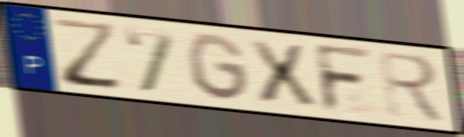7: (124, 23, 177, 95)
F: (312, 41, 376, 116)
G: (185, 31, 252, 104)
R: (375, 48, 449, 127)
X: (244, 37, 321, 108)
Z: (48, 15, 125, 93)
